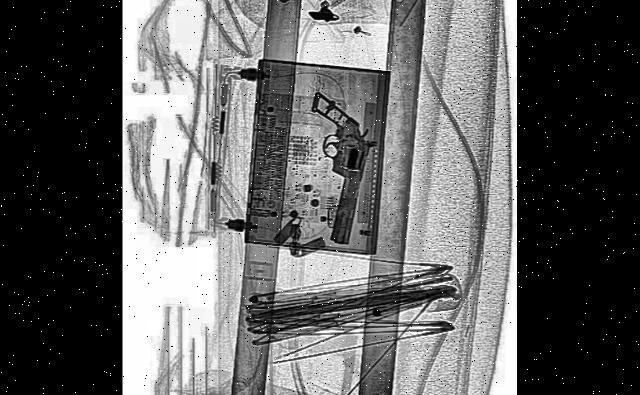Gun: (290, 86, 380, 253)
